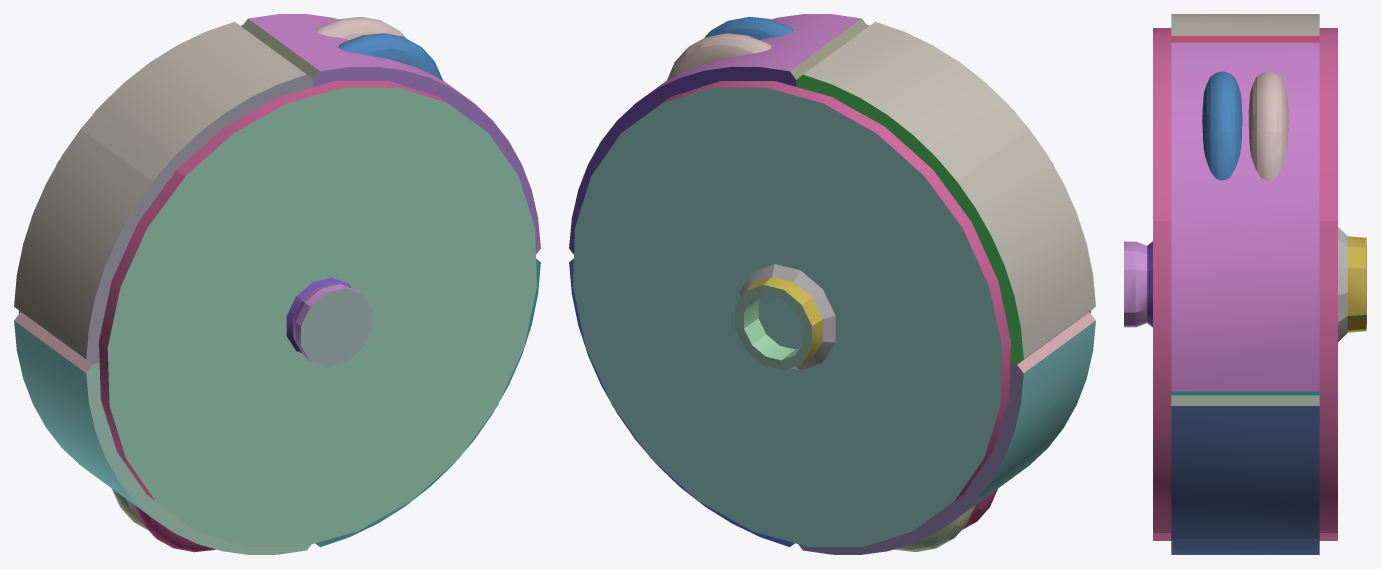
The model's file is module-animate-01.glb.
3 views of the same model, side by side, from view 1: azimuth 30°, elevation 25°; view 2: azimuth 150°, elevation 25°; view 3: azimuth 270°, elevation 25° (orthographic). The views are drawn at different scales.
Size of the model in its own units: 2.34 by 2.34 by 1.05.
